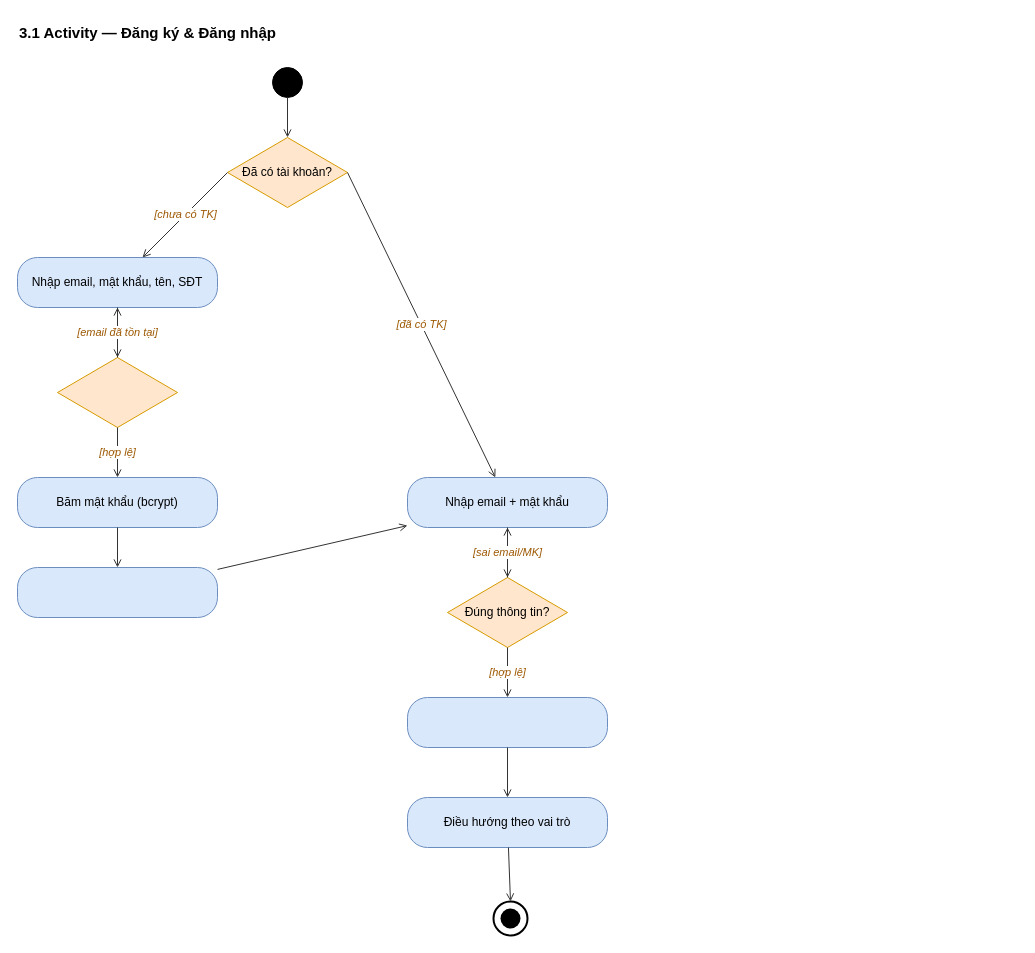
The diagram is 1035 pixels wide and 953 high, and some of its shapes have lost their labels. The shapes that lost their labels are listed below. From the top down, each one's centre as x and y in pixels, then its label:
At point (117, 392): "Email đã tồn tại?".
At point (117, 592): "Tạo tài khoản role=CUSTOMER".
At point (507, 722): "Phát hành JWT + set cookie ev_token".
